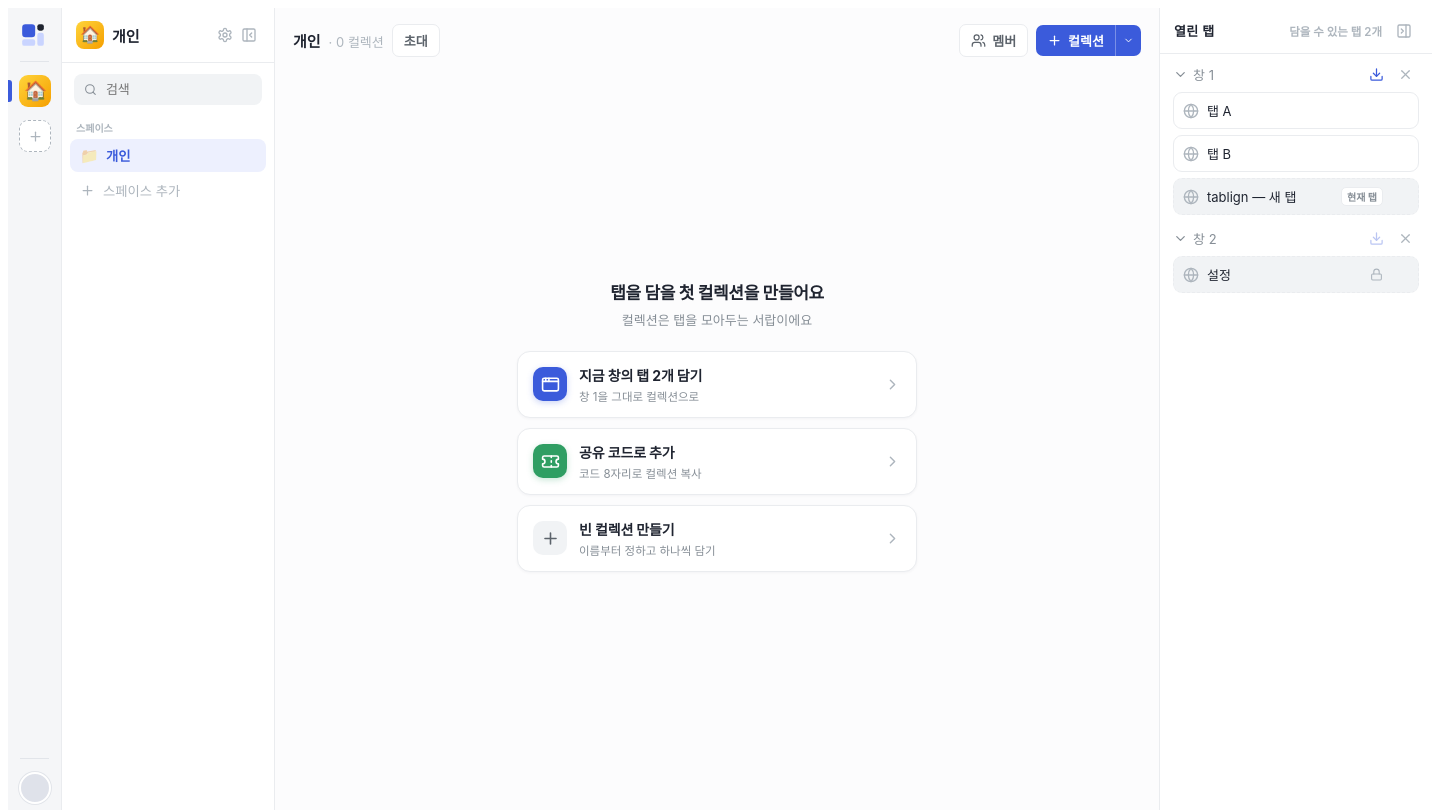
it: NewTab — 컬렉션이 0개일 때 › 담기가 실패하면 골격을 걷고 실패를 알린다
expect the text "지금 창의 탭 2개 담기" is shown: met, box [579,367,702,384]
What coordinates should you click on to do the following:
click the button "지금 창의 탭 2개 담기 창 1을 그대로 컬렉션으로"
I would click on:
 (550, 384)
Its box is [517,351,917,418].
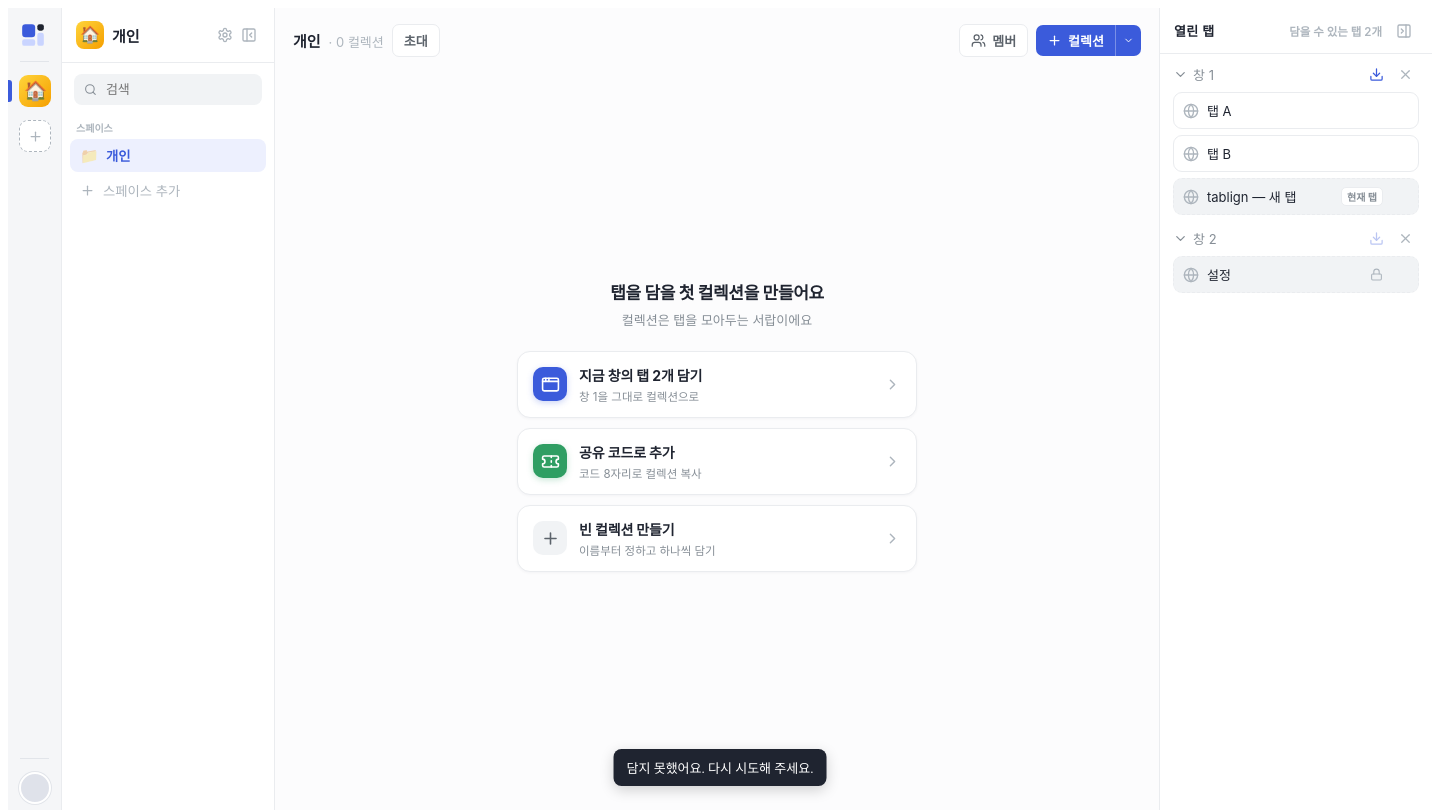
expect the text "담지 못했어요. 다시 시도해 주세요." is shown: met, box [614,749,826,786]
